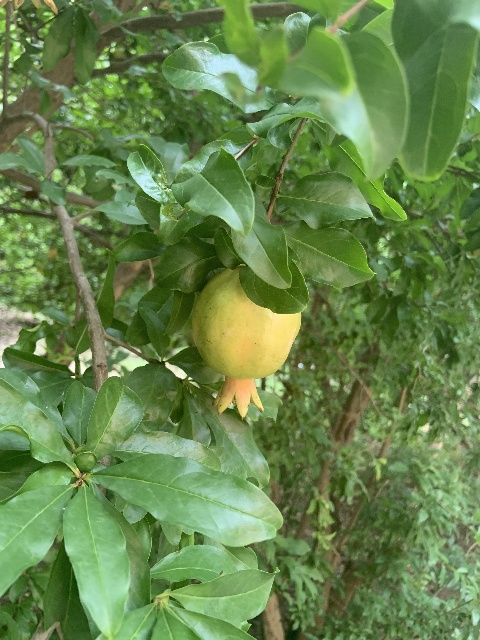mid-growth: (190, 266, 301, 419)
